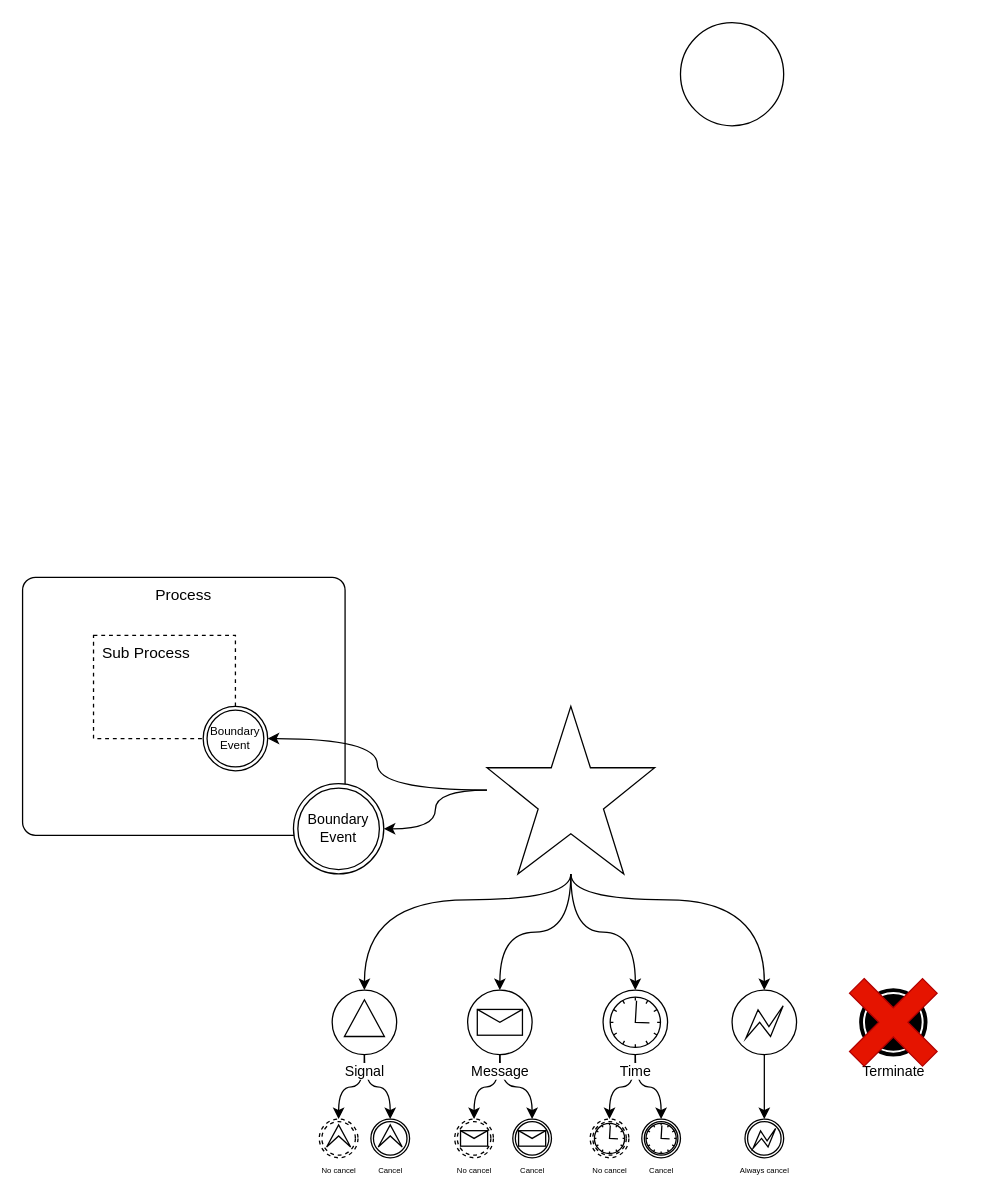
The diagram is 989 pixels wide and 1198 high, and some of its shapes have lost their labels. Here are the shapes that lost their labels. From the top down, the centre of each, then its label:
(x=731, y=73): Start Event
(x=570, y=789): Ivent Definitions
(x=764, y=1022): Error
